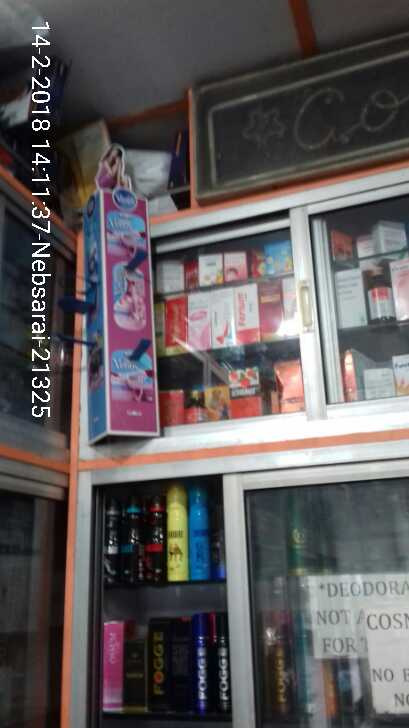reject: (147, 262, 265, 350)
